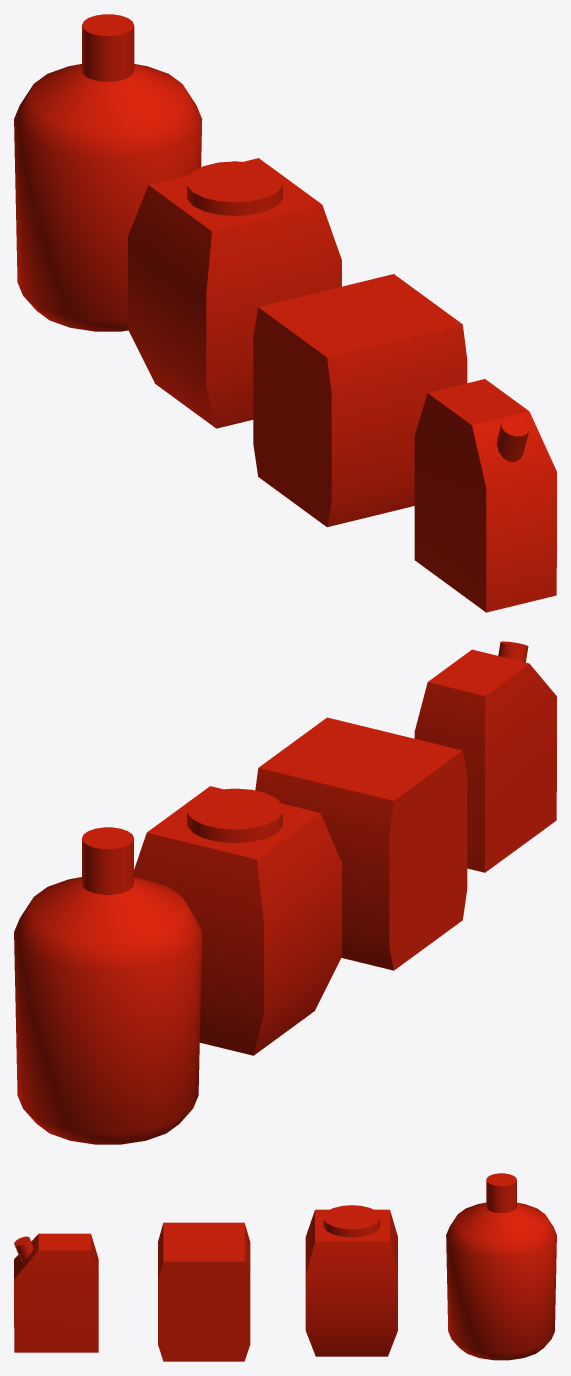
Rendered from Barrels_2_Collider.FBX.
The picture shows the model from 3 angles, top to bottom: view 1: azimuth 30°, elevation 25°; view 2: azimuth 150°, elevation 25°; view 3: azimuth 270°, elevation 25°; orthographic projection. The views are drawn at different scales.
Visible parts, largest first — view 1: Barrel_07_Collider, Barrel_05_Collider, Barrel_06_Collider, Barrel_08_Collider; view 2: Barrel_05_Collider, Barrel_06_Collider, Barrel_07_Collider, Barrel_08_Collider; view 3: Barrel_05_Collider, Barrel_06_Collider, Barrel_07_Collider, Barrel_08_Collider.
Boxes of the visible parts, bbox=[...] form: Barrel_07_Collider: bbox=[253, 274, 467, 527]; Barrel_05_Collider: bbox=[14, 14, 202, 331]; Barrel_06_Collider: bbox=[128, 158, 341, 428]; Barrel_08_Collider: bbox=[414, 379, 556, 612]; Barrel_05_Collider: bbox=[14, 827, 201, 1144]; Barrel_06_Collider: bbox=[134, 786, 341, 1055]; Barrel_07_Collider: bbox=[255, 717, 467, 970]; Barrel_08_Collider: bbox=[414, 641, 556, 872]; Barrel_05_Collider: bbox=[446, 1173, 556, 1360]; Barrel_06_Collider: bbox=[305, 1205, 397, 1356]; Barrel_07_Collider: bbox=[158, 1222, 250, 1361]; Barrel_08_Collider: bbox=[14, 1233, 98, 1352].
Bounding box in the file's own units: 29.56 × 48.6 × 147.
